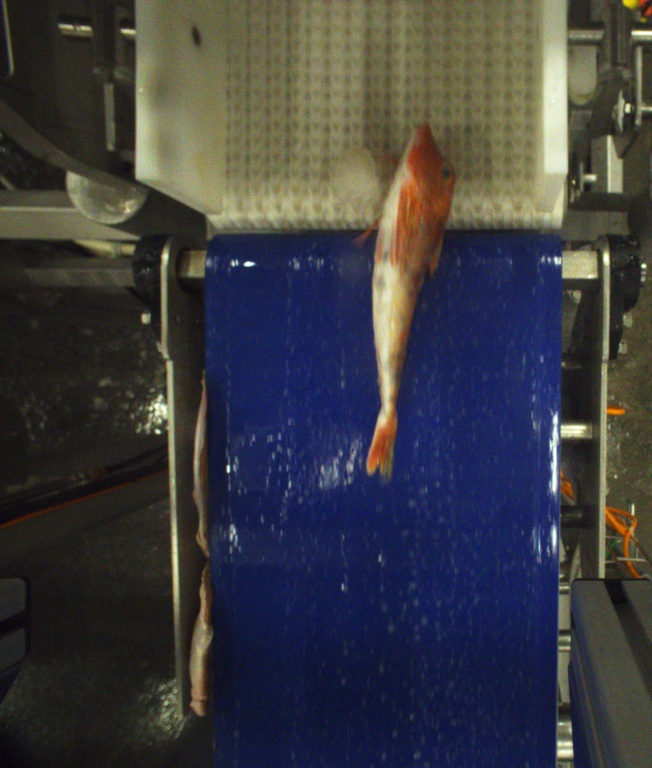GUU: (365, 123, 456, 480)
